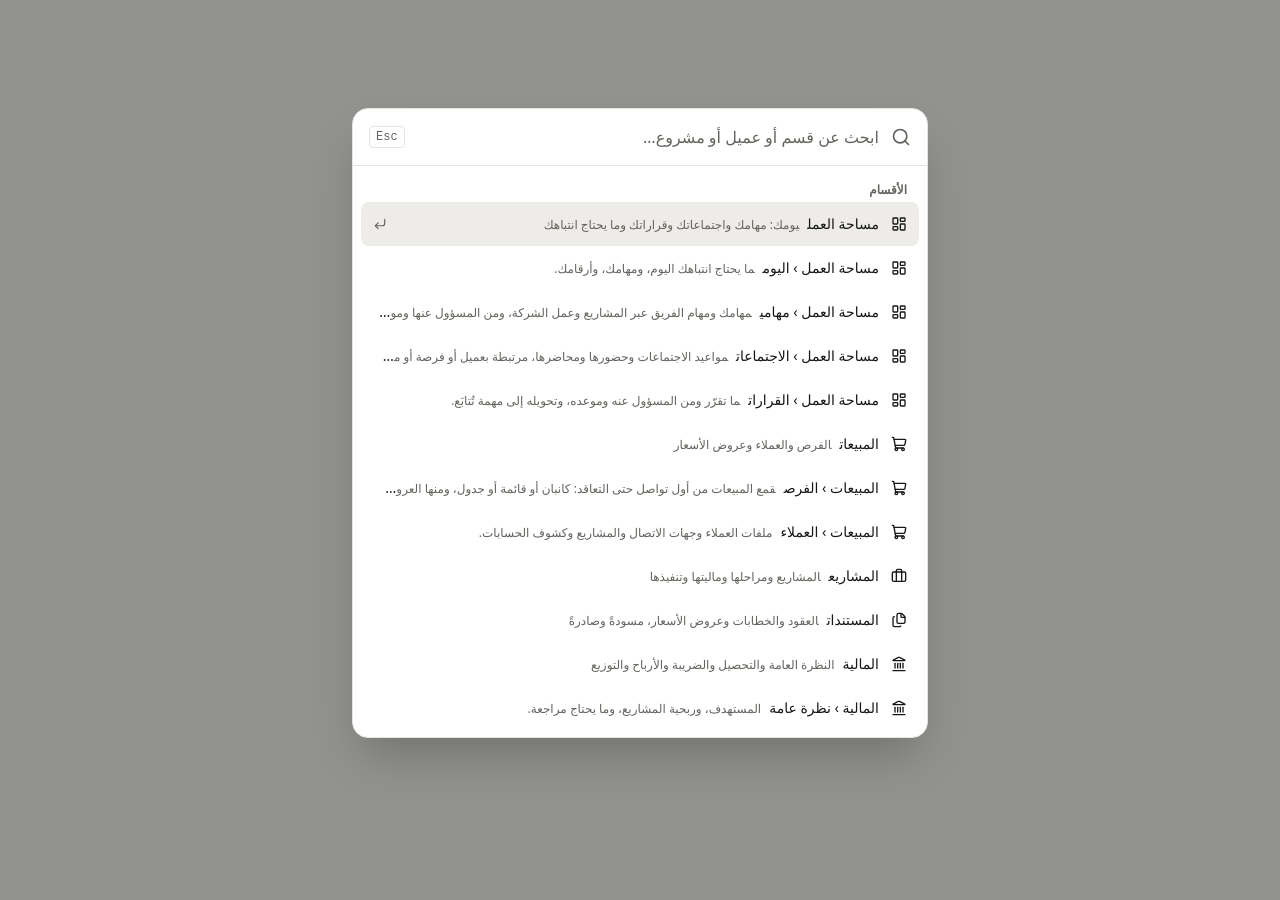
Test: CommandPalette › says so when nothing matches, and does not search for one letter
Type "ي" into the dropdown at (648,137), box [417, 109, 879, 165]
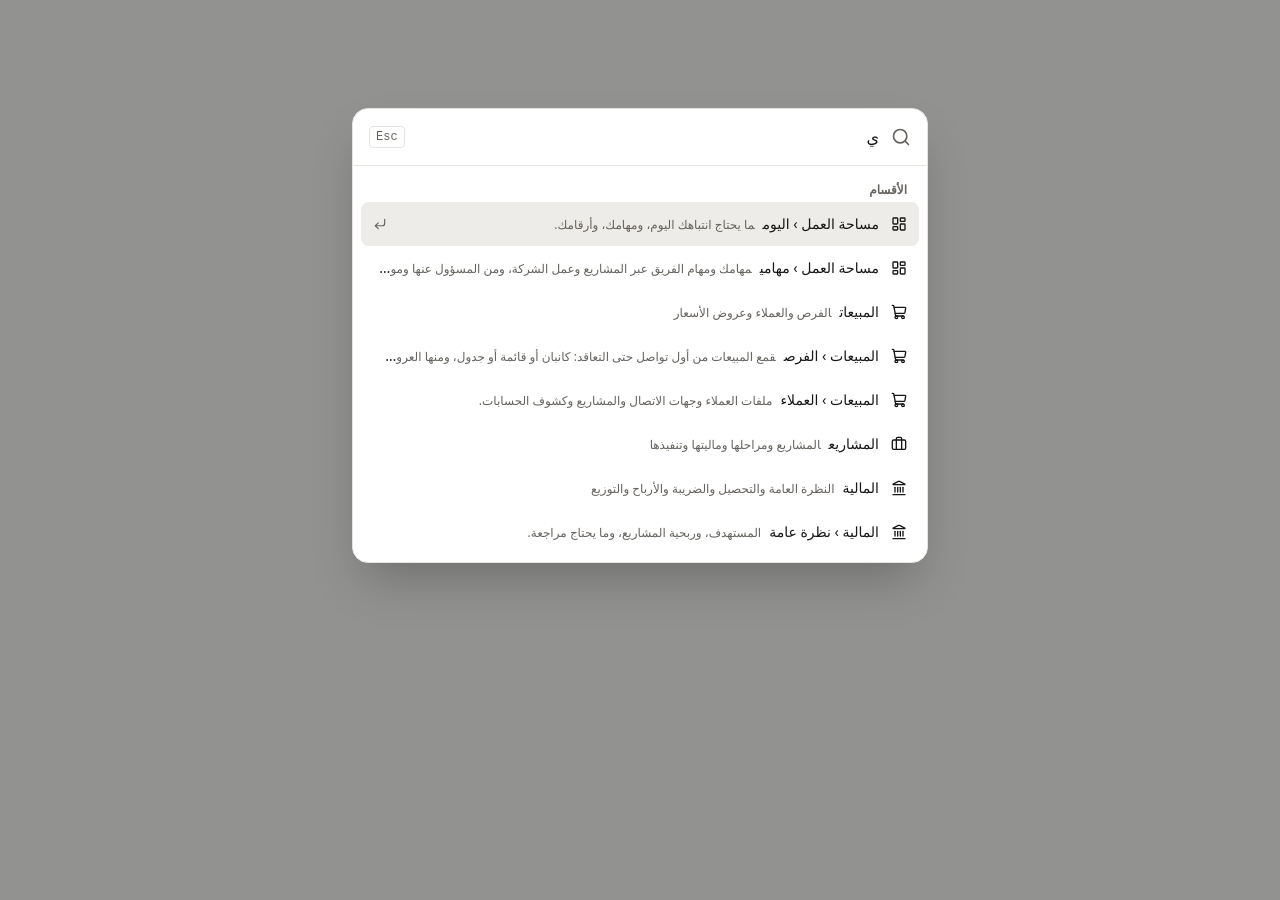
Type "ظظظظ" into the dropdown at (648,137), box [417, 109, 879, 165]
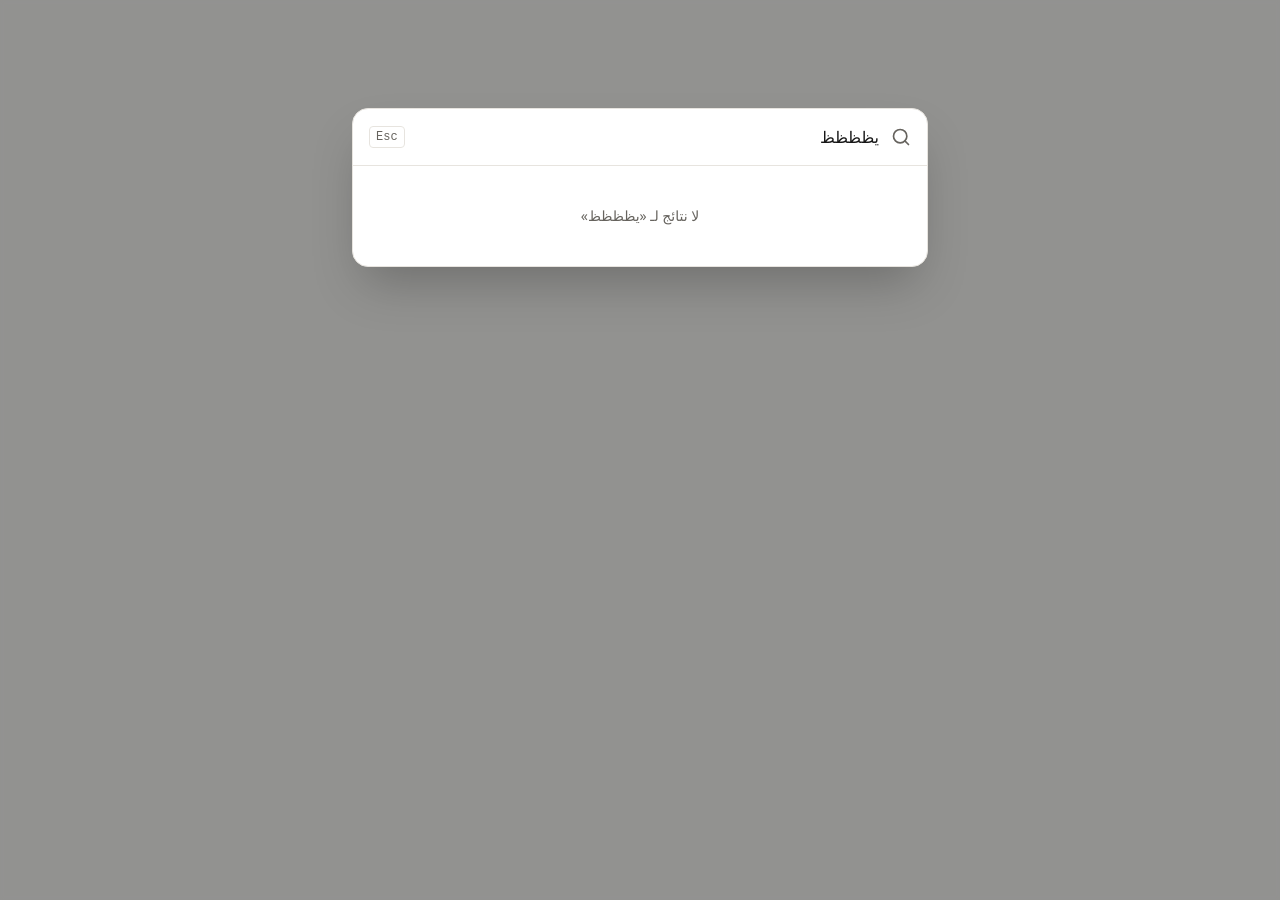
Result: the list item "لا نتائج" is shown at [640, 206, 699, 225]
